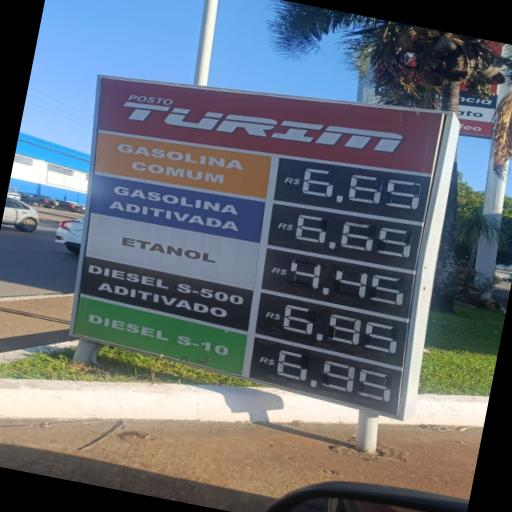ETANOL: (87, 218, 260, 286)
GASOLINA AD: (95, 175, 251, 239)
GASOLINA C: (92, 133, 271, 199)
S10: (81, 299, 246, 373)
S500: (81, 256, 254, 330)
placa: (72, 73, 447, 417)
preco: (274, 341, 398, 413), (288, 250, 416, 315), (290, 207, 424, 269), (294, 160, 428, 220), (283, 299, 406, 363)
